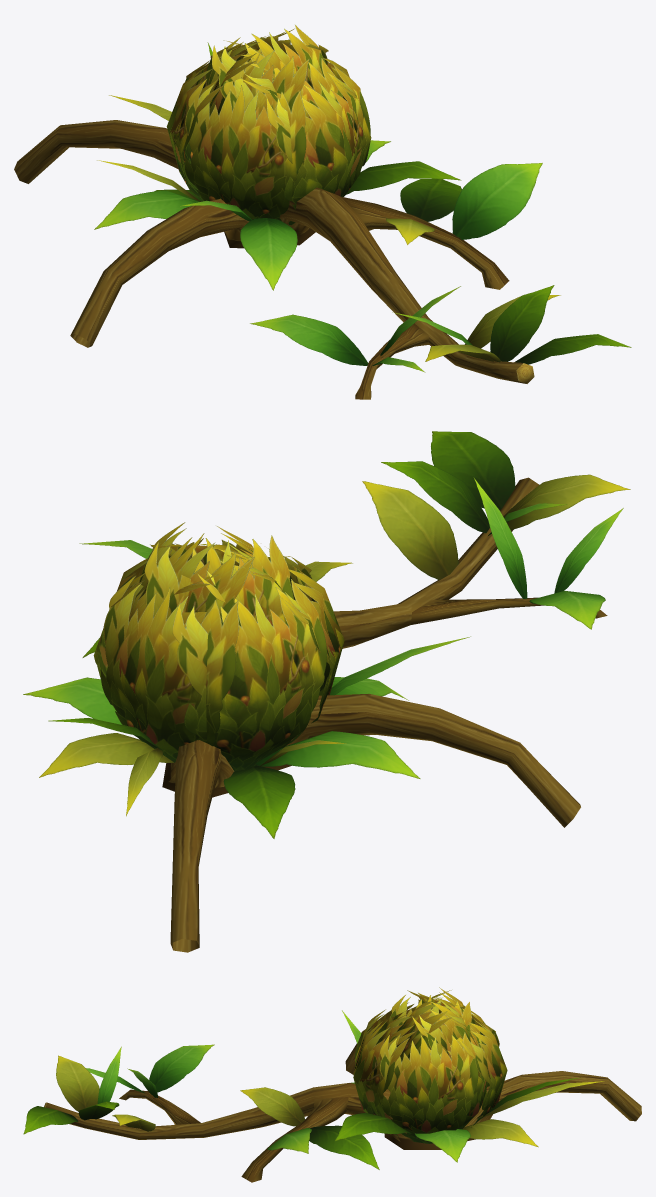
Rendered from glass_G_02.fbx.
The picture shows the model from 3 angles, top to bottom: view 1: azimuth 30°, elevation 25°; view 2: azimuth 150°, elevation 25°; view 3: azimuth 270°, elevation 25°; orthographic projection. The views are drawn at different scales.
Parts seen in each view (by area): view 1: polySurface78; view 2: polySurface78; view 3: polySurface78.
Part boxes in pixels (x1,y1,x2,y2): polySurface78: [14, 25, 631, 399]; polySurface78: [23, 431, 630, 952]; polySurface78: [23, 987, 641, 1182].
Size of the model in its own units: 2152 by 1035 by 3492.
